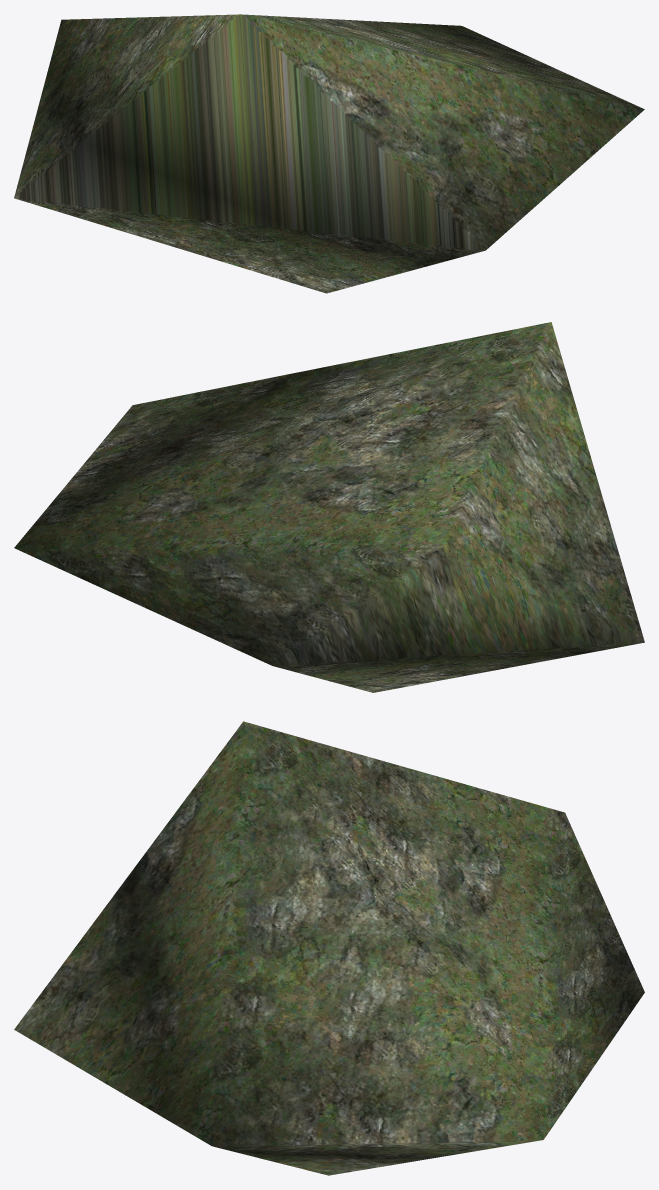
File: mtns_rock_moss_a8_l3.fbx
3 renders of one model, top to bottom at view 1: azimuth 30°, elevation 25°; view 2: azimuth 150°, elevation 25°; view 3: azimuth 270°, elevation 25°, orthographic. The views are drawn at different scales.
Visible parts, largest first — view 1: mesh_node; view 2: mesh_node; view 3: mesh_node.
Boxes of the visible parts, bbox=[...] form: mesh_node: bbox=[14, 14, 644, 293]; mesh_node: bbox=[14, 322, 644, 692]; mesh_node: bbox=[14, 721, 644, 1175].
Size of the model in its own units: 1.93 by 1.14 by 1.69.
